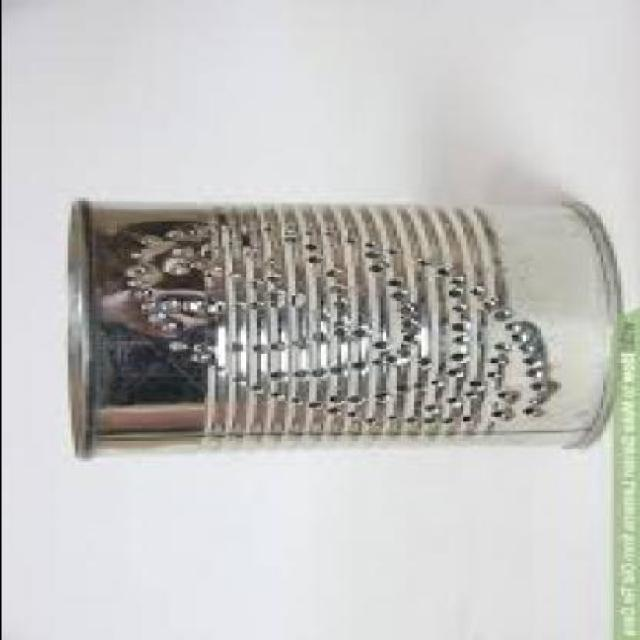METAL: (66, 198, 623, 456)
